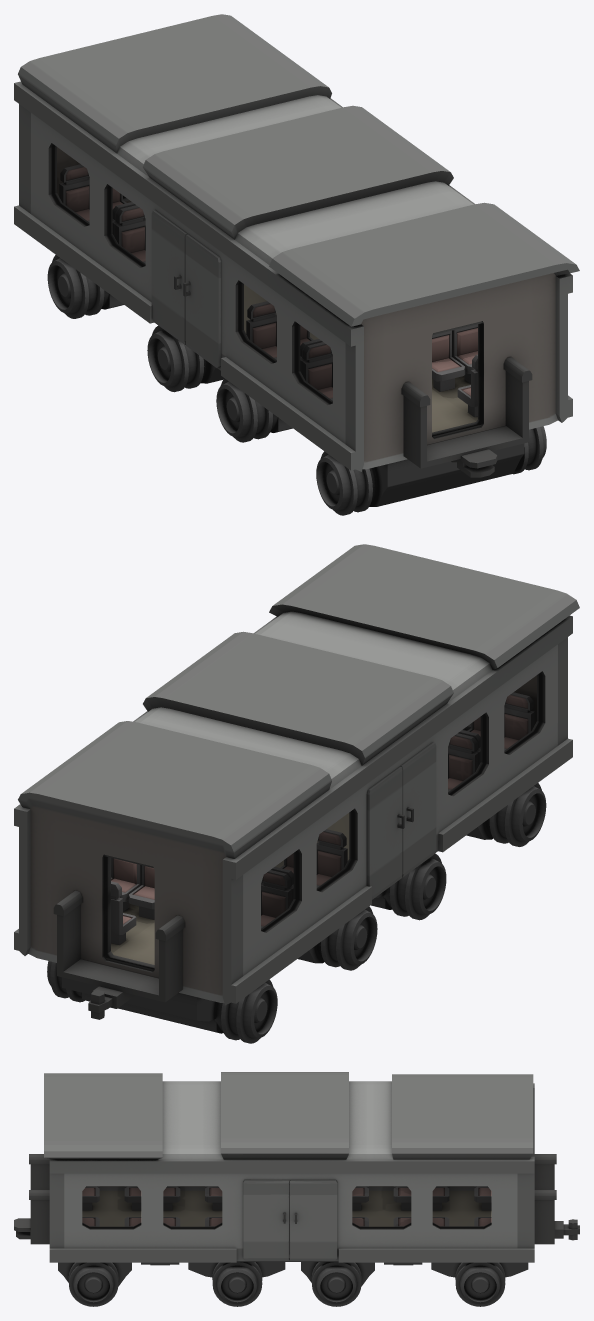
Rendered from tren_sin_puertas.gltf.
The picture shows the model from 3 angles, top to bottom: view 1: azimuth 30°, elevation 25°; view 2: azimuth 150°, elevation 25°; view 3: azimuth 270°, elevation 25°; orthographic projection. The views are drawn at different scales.
Parts seen in each view (by area): view 1: Cube.044; view 2: Cube.044; view 3: Cube.044.
Part boxes in pixels (x1,y1,x2,y2): Cube.044: (14, 14, 579, 515); Cube.044: (14, 544, 579, 1043); Cube.044: (14, 1072, 579, 1306).
Bounding box in the file's own units: 4.24 × 4.08 × 12.56.
Materials: 7 (6 with a texture image).
